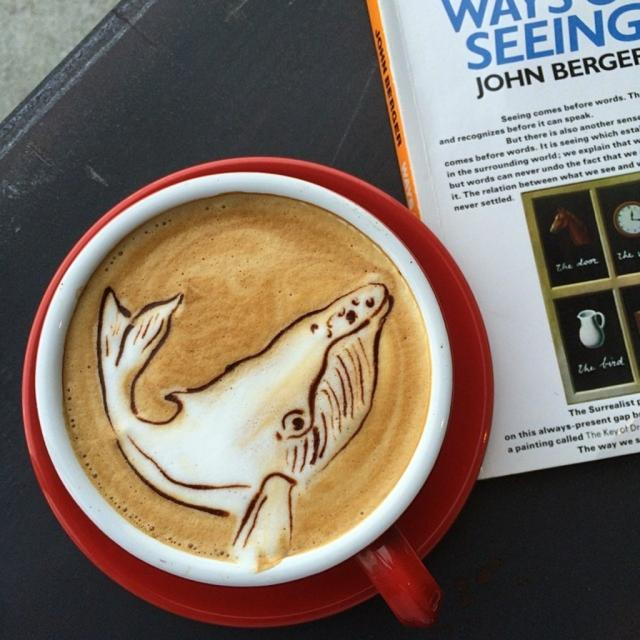Coffee: (60, 196, 430, 570)
